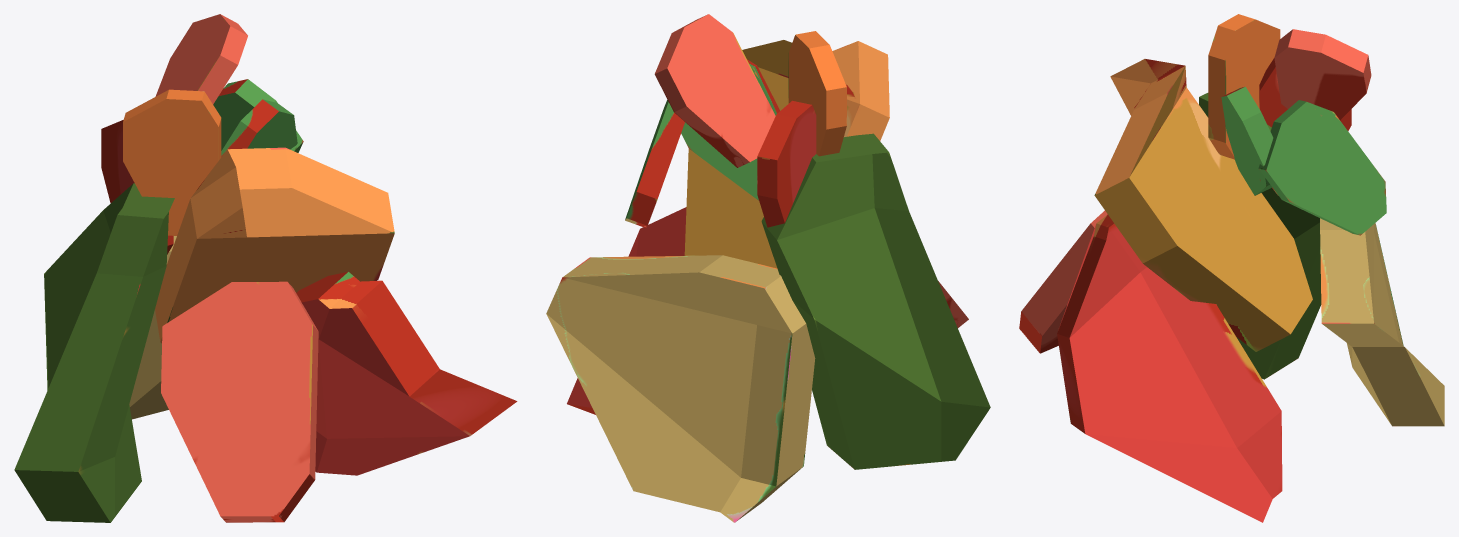
Rendered from comida2.fbx.
3 views of the same model, side by side, from view 1: azimuth 30°, elevation 25°; view 2: azimuth 150°, elevation 25°; view 3: azimuth 270°, elevation 25° (orthographic). The views are drawn at different scales.
Visible parts, largest first — view 1: Comida; view 2: Comida; view 3: Comida.
Boxes of the visible parts, left/top/right/bottom form: Comida: left=14, top=14, right=517, bottom=522; Comida: left=546, top=14, right=990, bottom=522; Comida: left=1019, top=14, right=1444, bottom=522.
Bounding box in the file's own units: 23.1 × 23.61 × 20.92.
